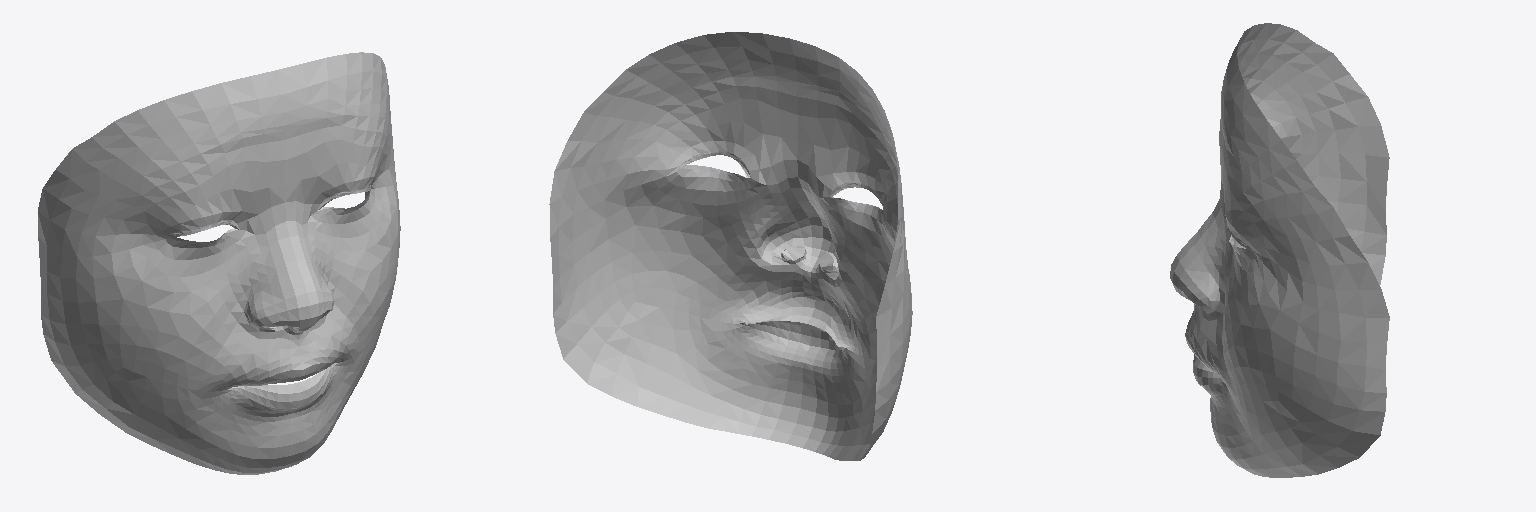
Rendered from browInnerUp.obj.
The picture shows the model from 3 angles: view 1: azimuth 30°, elevation 25°; view 2: azimuth 150°, elevation 25°; view 3: azimuth 270°, elevation 25°; orthographic projection.
Visible parts, largest first — view 1: default; view 2: default; view 3: default.
Boxes of the visible parts, <box> form: default: <box>38,52,400,474</box>; default: <box>549,32,912,460</box>; default: <box>1170,23,1389,477</box>.
Bounding box in the file's own units: 0.1624 × 0.1851 × 0.0913.